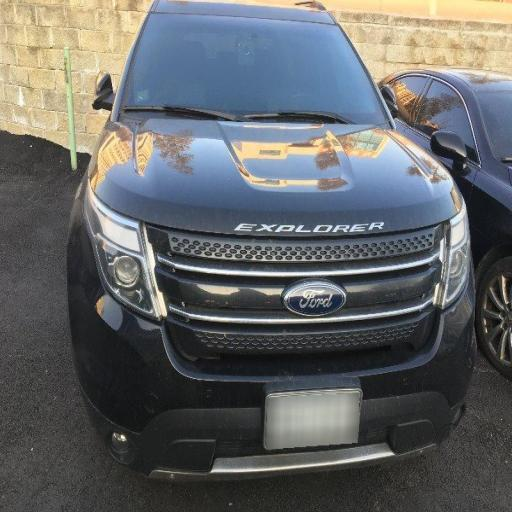normal: (56, 9, 476, 463)
